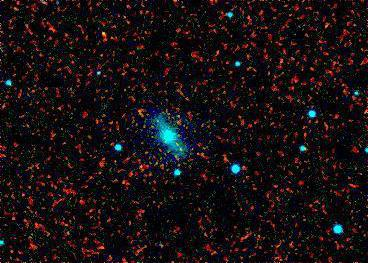star: (89, 19, 119, 49)
